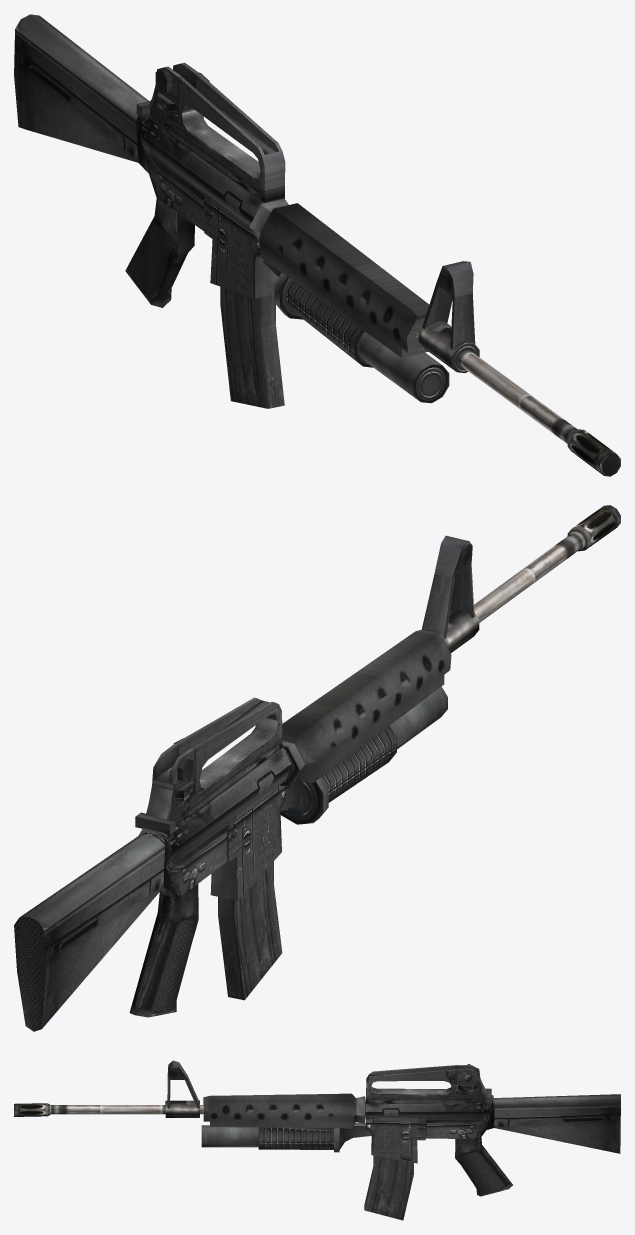
The picture shows the model from 3 angles, top to bottom: view 1: azimuth 30°, elevation 25°; view 2: azimuth 150°, elevation 25°; view 3: azimuth 270°, elevation 25°; orthographic projection. The views are drawn at different scales.
Visible parts, largest first — view 1: _m203_3rd; view 2: _m203_3rd; view 3: _m203_3rd.
Part boxes in pixels (x1,y1,x2,y2): _m203_3rd: (14,14,620,476); _m203_3rd: (14,505,620,1031); _m203_3rd: (14,1060,620,1220).
Size of the model in its own units: 0.0624 by 0.3209 by 1.14.
Materials: 1 (1 with a texture image).
